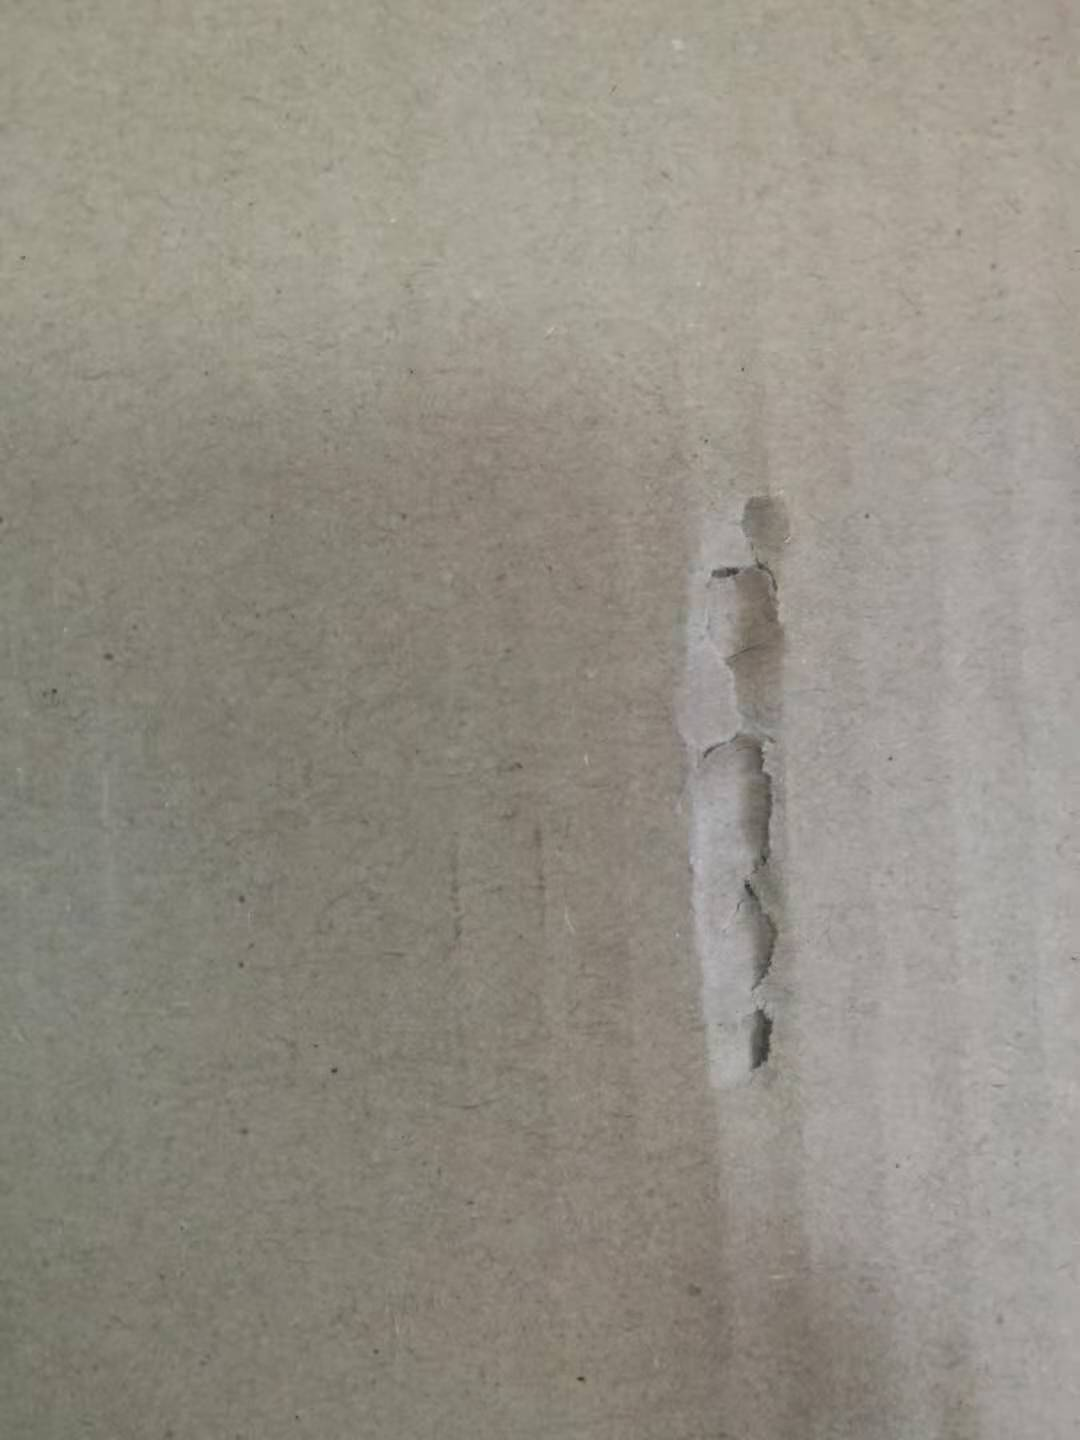defect: (622, 455, 886, 1136)
